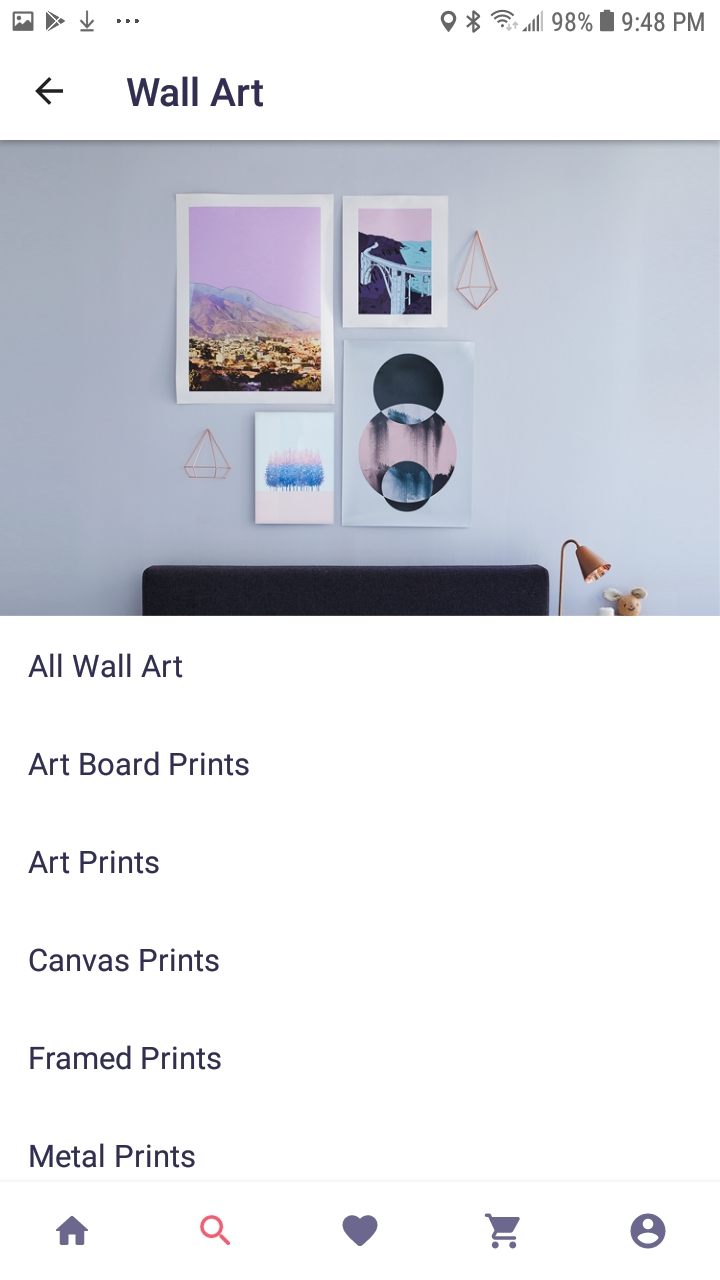Icon: (630, 1213, 666, 1249), (485, 1213, 520, 1249), (343, 1214, 379, 1246), (56, 1216, 89, 1246), (201, 1214, 231, 1245), (35, 77, 64, 106)
Image: (1, 141, 720, 617)
Text: (29, 751, 250, 777), (30, 1045, 222, 1071), (30, 948, 220, 973), (127, 76, 264, 108), (30, 1143, 196, 1168), (29, 653, 184, 678), (30, 850, 160, 875)
UpperTaskBar: (1, 1, 720, 34)
